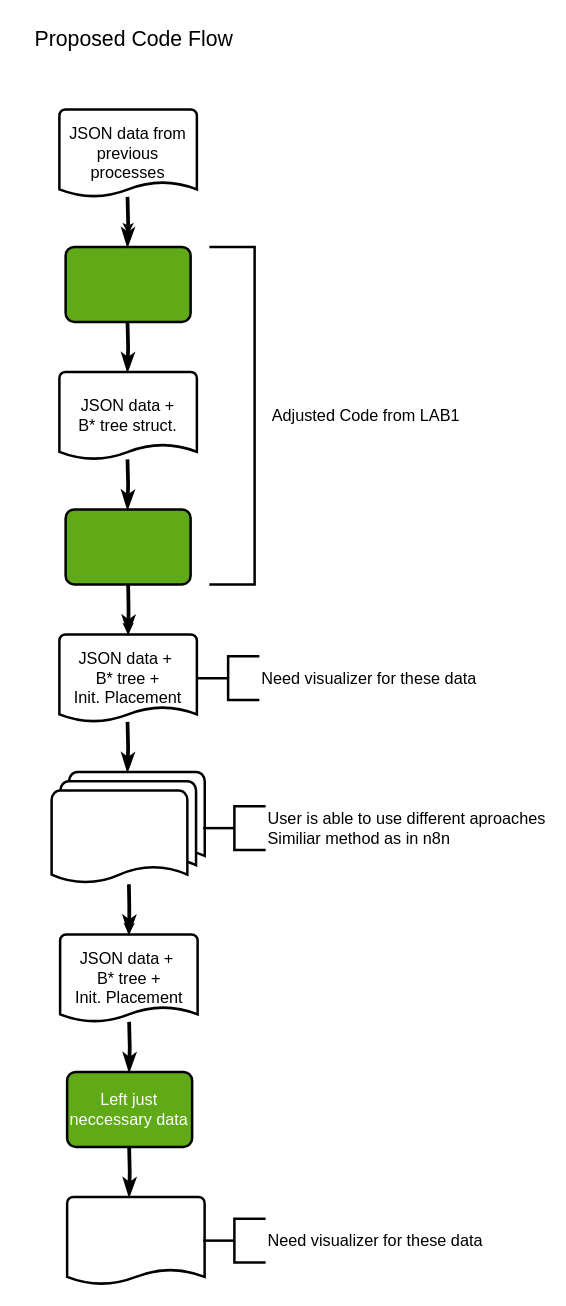
Some shapes in this 566 by 1306 pixel diagram are drawn without their labels. The box of each missing label's shape, as (x1, y1, x2, y2) in pixels:
Build B* tree: (64, 245, 191, 322)
Initial Placement: (64, 508, 191, 585)
JSON data + Placement: (65, 1195, 205, 1285)
Optimization Function: (50, 770, 205, 885)
